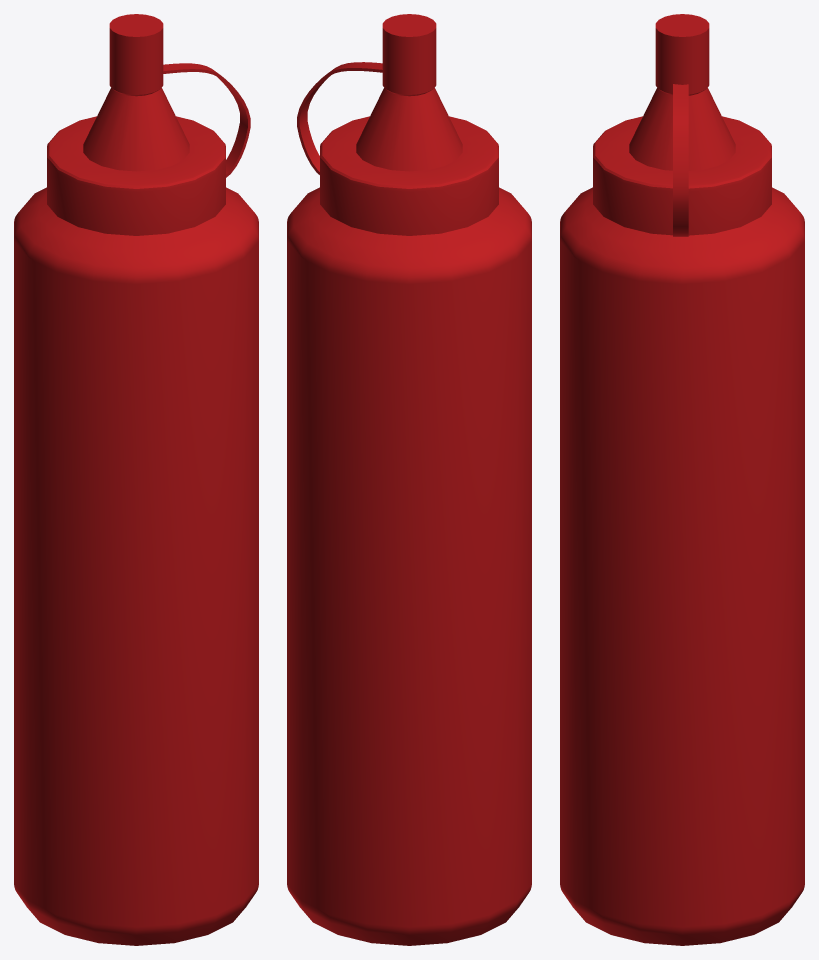
The model's file is Ketchup.FBX.
3 views of the same model, side by side, from view 1: azimuth 30°, elevation 25°; view 2: azimuth 150°, elevation 25°; view 3: azimuth 270°, elevation 25° (orthographic).
Visible parts, largest first — view 1: Ketchup; view 2: Ketchup; view 3: Ketchup.
Part boxes in pixels (<box>): Ketchup: <box>14,14,258,945</box>; Ketchup: <box>287,14,531,945</box>; Ketchup: <box>560,14,804,945</box>.
Bounding box in the file's own units: 7.94 × 30.5 × 7.76.
Materials: 1 (1 with a texture image).
